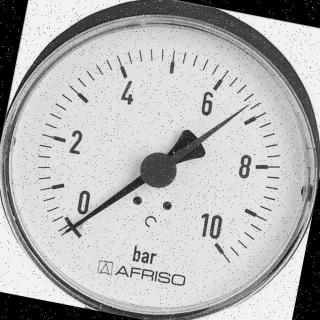gauge: (0, 5, 320, 320), (136, 148, 180, 192), (193, 227, 240, 266), (56, 212, 94, 244), (55, 220, 79, 244), (240, 99, 254, 113)
